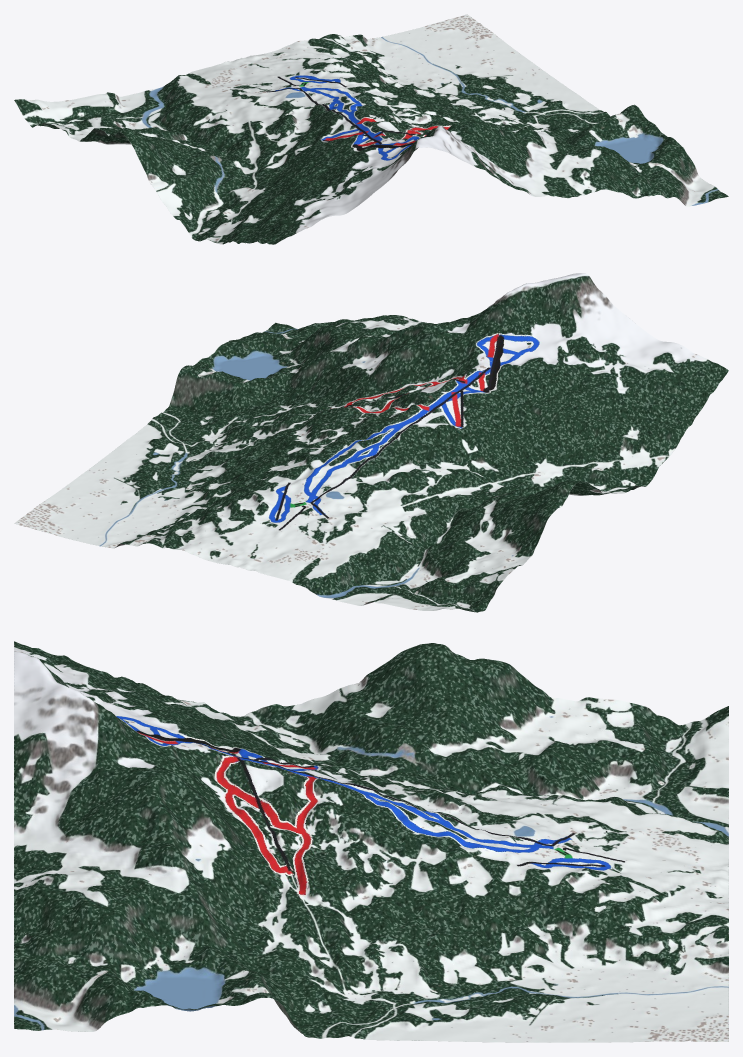
The picture shows the model from 3 angles, top to bottom: view 1: azimuth 30°, elevation 25°; view 2: azimuth 150°, elevation 25°; view 3: azimuth 270°, elevation 25°; orthographic projection. The views are drawn at different scales.
Visible parts, largest first — view 1: A3_Soellereck.glb; view 2: A3_Soellereck.glb; view 3: A3_Soellereck.glb.
Boxes of the visible parts, x1,y1,x2,y2 form: A3_Soellereck.glb: [14, 14, 728, 244]; A3_Soellereck.glb: [14, 273, 728, 612]; A3_Soellereck.glb: [14, 641, 728, 1042].
Bounding box in the file's own units: 3968 × 1144 × 3968.
Materials: 1 (1 with a texture image).
